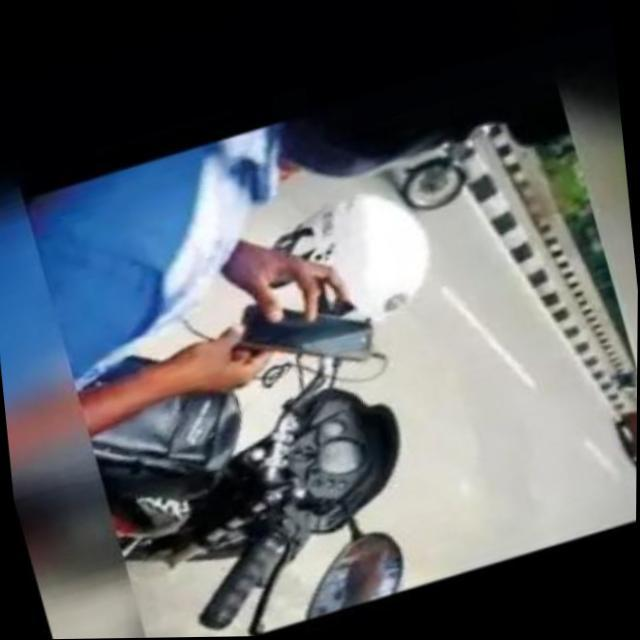use_mobile: (175, 239, 379, 406)
